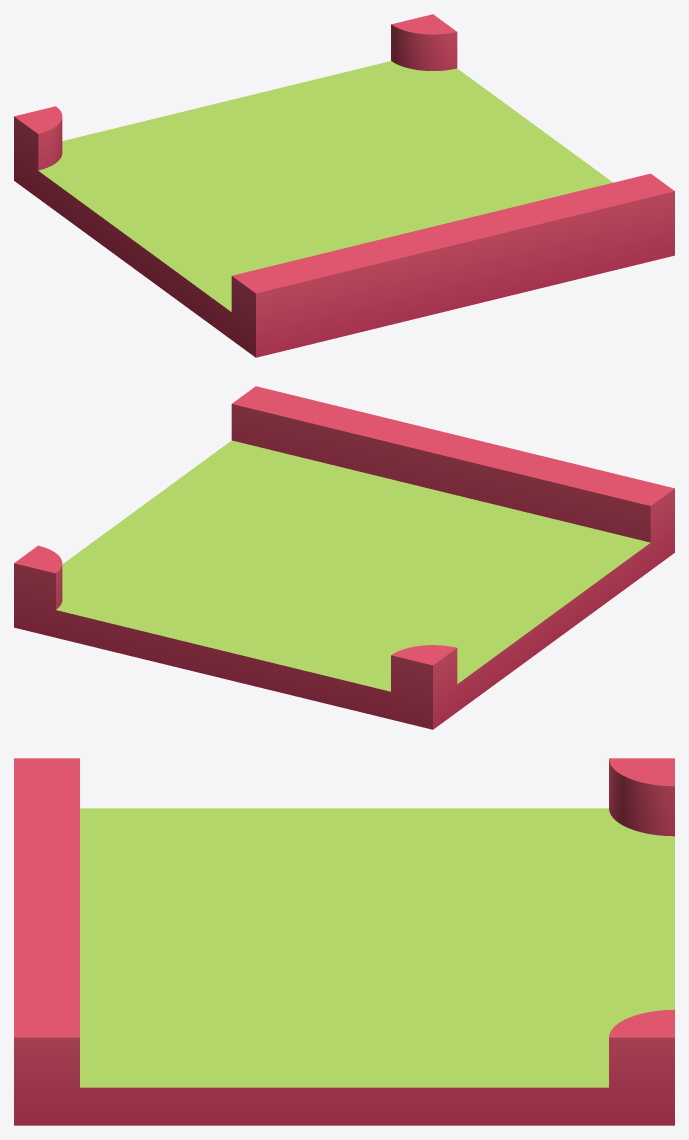
Rendered from split-t.gltf.
The picture shows the model from 3 angles, top to bottom: view 1: azimuth 30°, elevation 25°; view 2: azimuth 150°, elevation 25°; view 3: azimuth 270°, elevation 25°; orthographic projection. The views are drawn at different scales.
Parts seen in each view (by area): view 1: split-t; view 2: split-t; view 3: split-t.
Boxes of the visible parts, x1,y1,x2,y2 form: split-t: [14, 14, 674, 357]; split-t: [14, 386, 674, 729]; split-t: [14, 758, 674, 1125].
Bounding box in the file's own units: 0.9999 × 0.1467 × 0.9999.
1 material, 1 textured.
